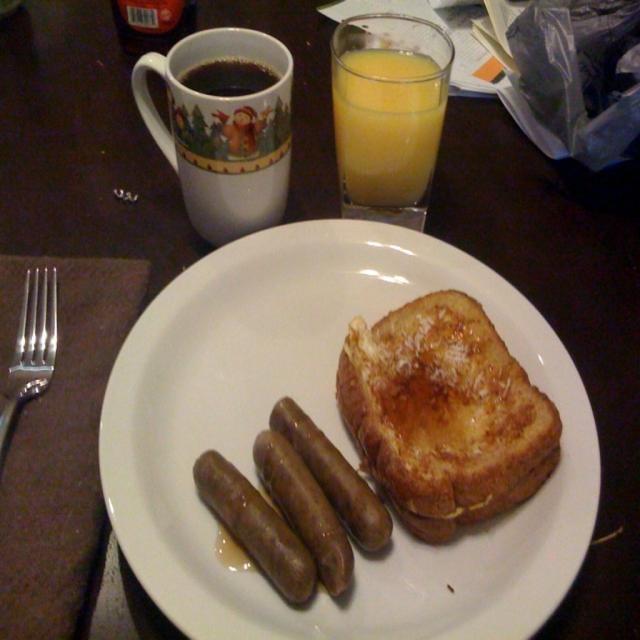Coffee: (179, 56, 281, 95)
Tea: (178, 60, 282, 98)
